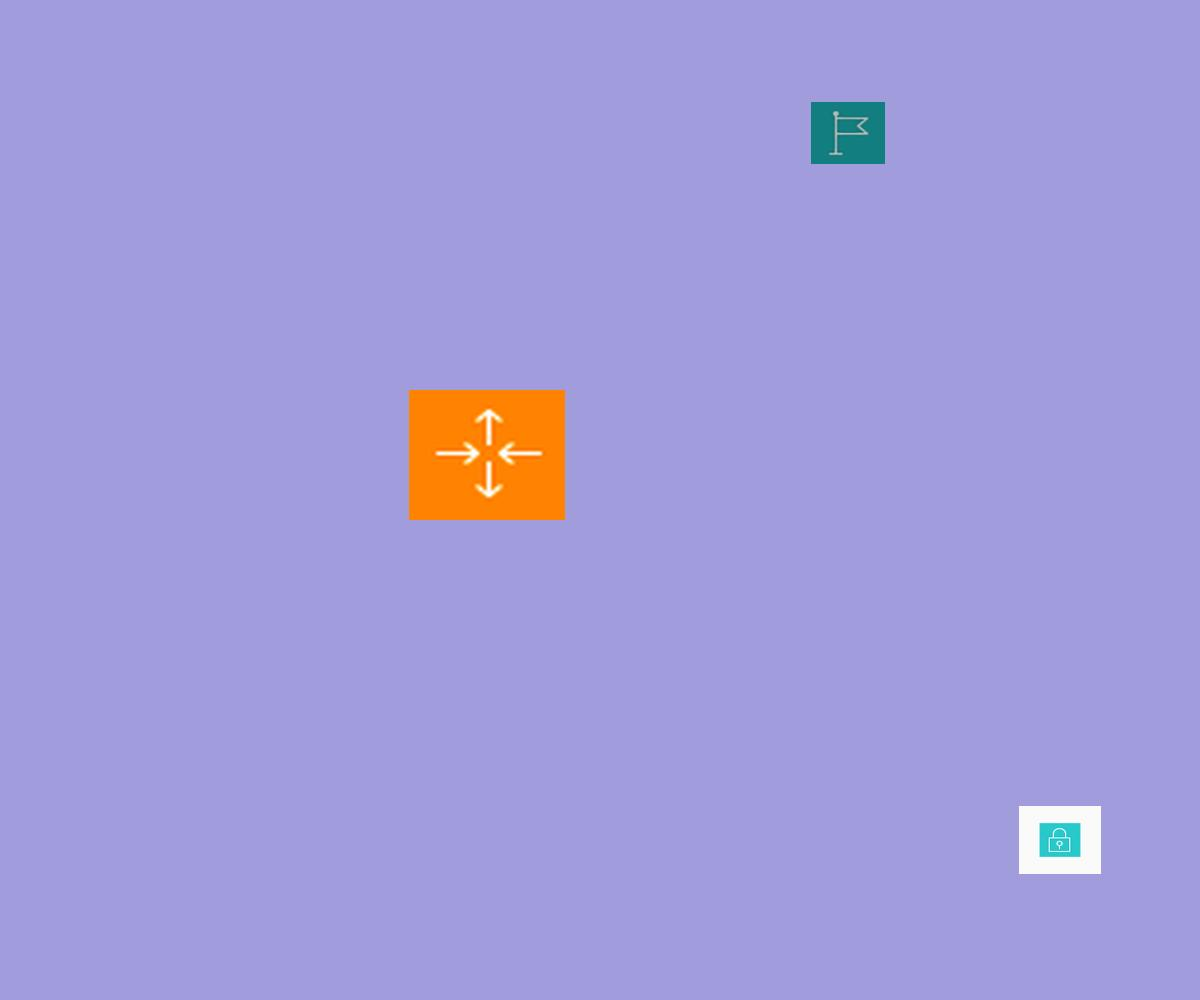AWS-Private-subnet: (1019, 806, 1101, 874)
AWS-Region: (811, 102, 885, 164)
AWS-Scaling-group: (409, 390, 565, 520)
